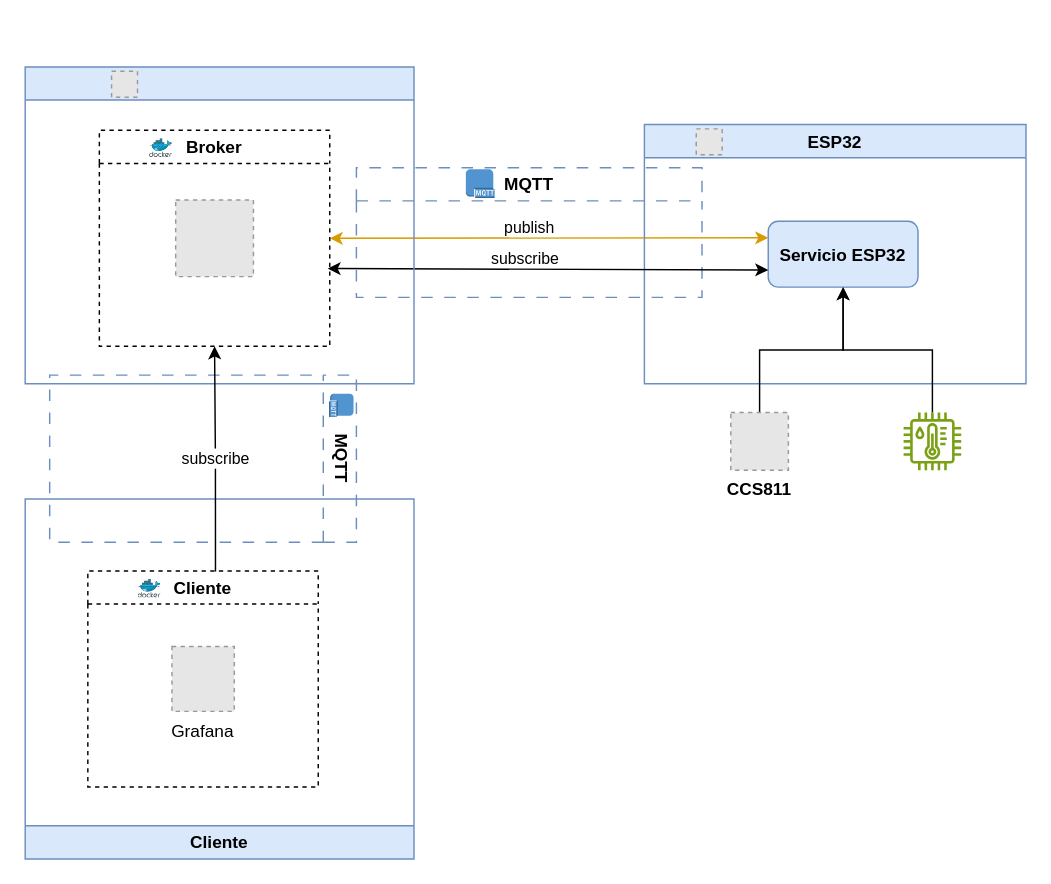
This 1051x884 diagram has some shape labels left out. Grey dashed boxes stand in for pictures. The box of each missing label's shape, as (x1, y1, x2, y2) in pixels:
AM2320: (903, 412, 960, 469)
Raspberry Pi 3B+: (24, 66, 414, 384)
